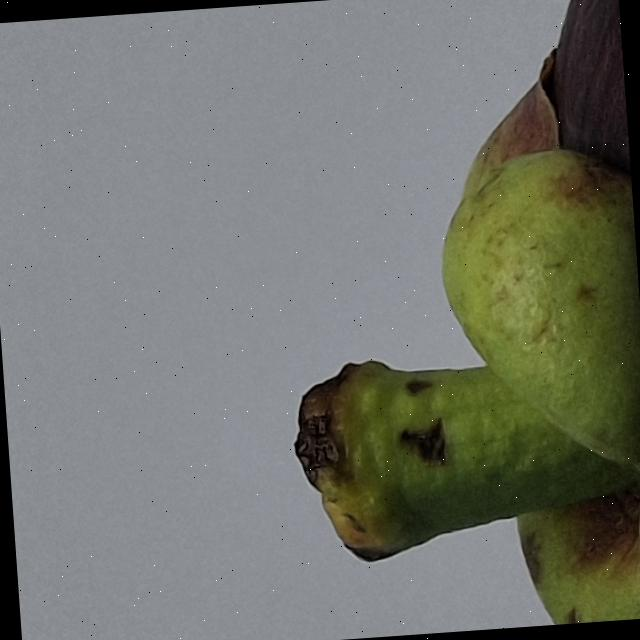mangosteen: (123, 0, 640, 640)
